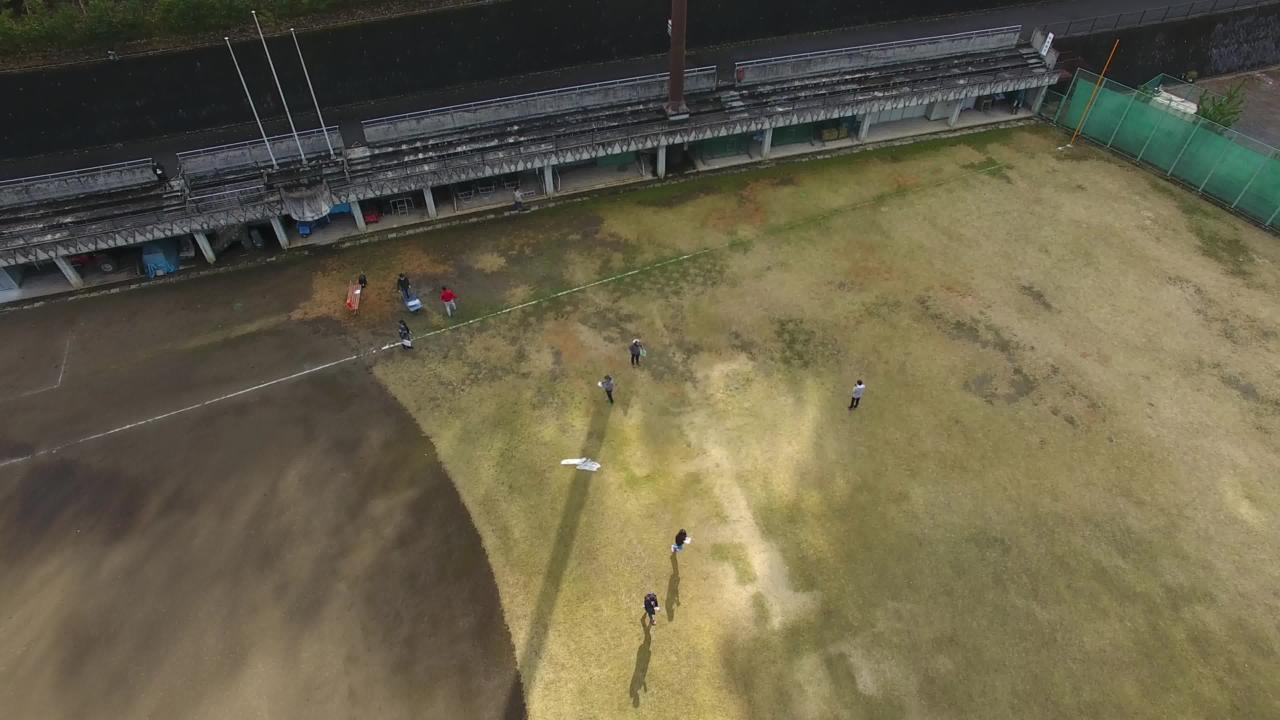person: (635, 585, 668, 635), (386, 314, 419, 364), (429, 277, 462, 327), (617, 329, 650, 379), (592, 364, 625, 414), (664, 520, 697, 570), (839, 374, 872, 424), (144, 152, 177, 202), (506, 179, 539, 229), (392, 262, 425, 312)
